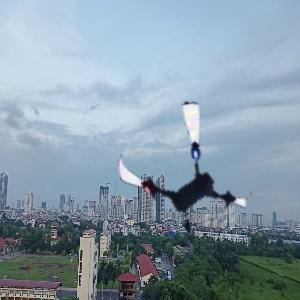drone: (111, 103, 254, 246)
